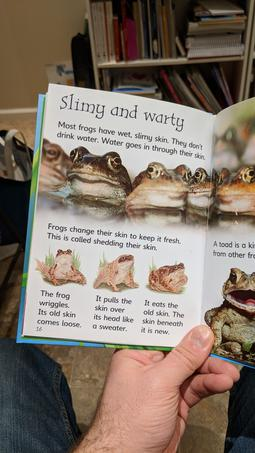text block: (55, 115, 211, 164), (54, 86, 193, 130), (45, 219, 185, 254), (31, 284, 84, 335), (137, 293, 188, 344), (91, 290, 138, 335), (209, 233, 255, 267)
